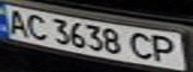3: (48, 16, 72, 47), (84, 23, 106, 53)
6: (66, 20, 87, 51)
8: (103, 26, 127, 56)
A: (3, 7, 30, 36)
C: (127, 30, 160, 61), (21, 11, 51, 42)
P: (148, 33, 184, 65)
